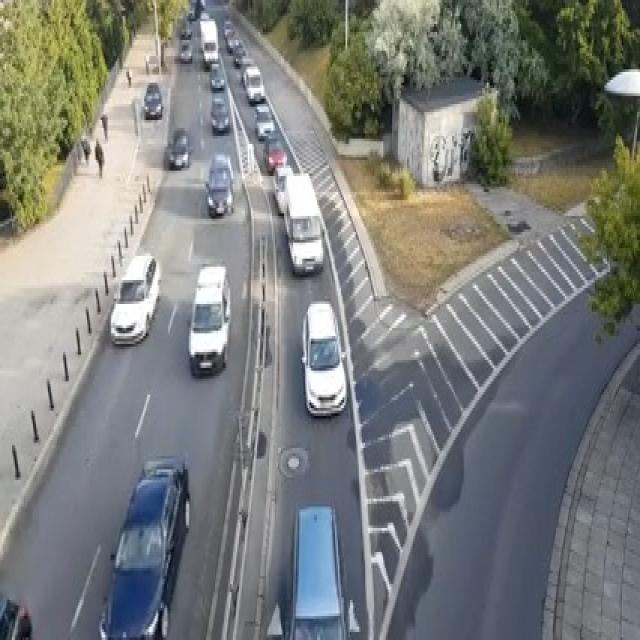car: (98, 453, 189, 638), (287, 504, 348, 637), (301, 299, 347, 416), (186, 264, 230, 376), (110, 253, 159, 344), (282, 170, 324, 274), (204, 152, 233, 216), (0, 595, 32, 637), (272, 163, 293, 213), (261, 136, 287, 173), (166, 128, 190, 168), (242, 64, 264, 104), (254, 101, 273, 139), (143, 80, 162, 117), (209, 96, 228, 133), (209, 61, 224, 91), (239, 56, 254, 85), (179, 40, 192, 61), (222, 19, 233, 37), (180, 22, 191, 38)
